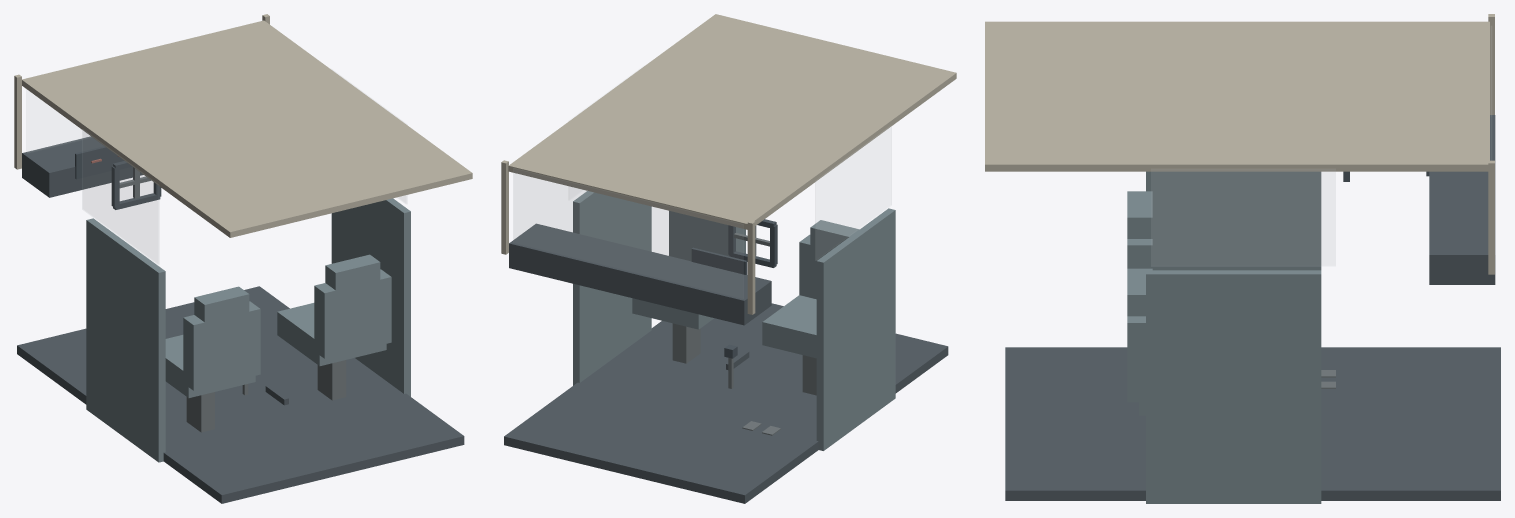
File: ambulance_cabin.glb
The picture shows the model from 3 angles, left to right: view 1: azimuth 30°, elevation 25°; view 2: azimuth 150°, elevation 25°; view 3: azimuth 270°, elevation 25°; orthographic projection. The views are drawn at different scales.
Visible parts, largest first — view 1: body, glass_side_left, glass_windshield, steering_wheel; view 2: body, glass_windshield, glass_side_left, steering_wheel; view 3: body, glass_side_right.
Part boxes in pixels (x1,y1,x2,y2): body: (14,14,472,503); glass_side_left: (82,129,158,264); glass_windshield: (27,90,81,152); steering_wheel: (111,161,161,209); body: (501,14,956,503); glass_windshield: (513,169,742,297); glass_side_left: (815,126,891,259); steering_wheel: (728,219,777,267); body: (985,14,1500,503); glass_side_right: (1151,169,1335,265).
Size of the model in its own units: 1.82 by 1.93 by 2.65.
